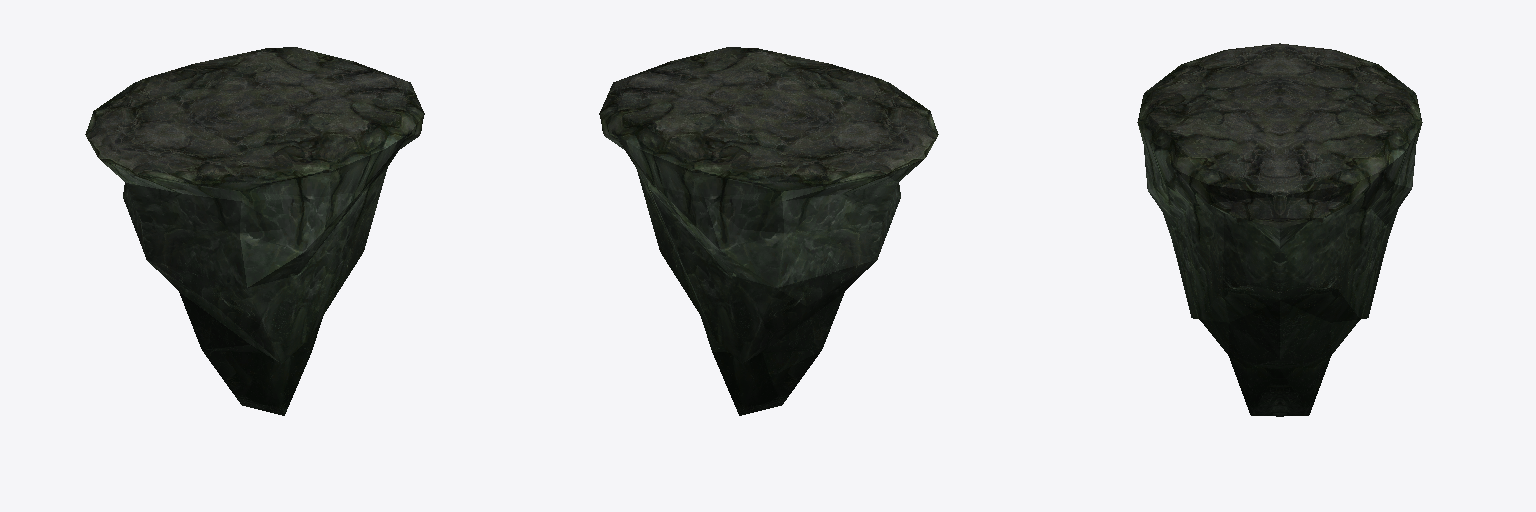
3 views of the same model, side by side, from view 1: azimuth 30°, elevation 25°; view 2: azimuth 150°, elevation 25°; view 3: azimuth 270°, elevation 25° (orthographic).
Parts seen in each view (by area): view 1: Shadowmoon_OverhangRock_Large_01; view 2: Shadowmoon_OverhangRock_Large_01; view 3: Shadowmoon_OverhangRock_Large_01.
Part boxes in pixels (x1,y1,x2,y2): Shadowmoon_OverhangRock_Large_01: (85, 47, 424, 415); Shadowmoon_OverhangRock_Large_01: (599, 47, 938, 415); Shadowmoon_OverhangRock_Large_01: (1137, 43, 1422, 416).
Bounding box in the file's own units: 71.19 × 67.28 × 55.84.
Materials: 1 (1 with a texture image).